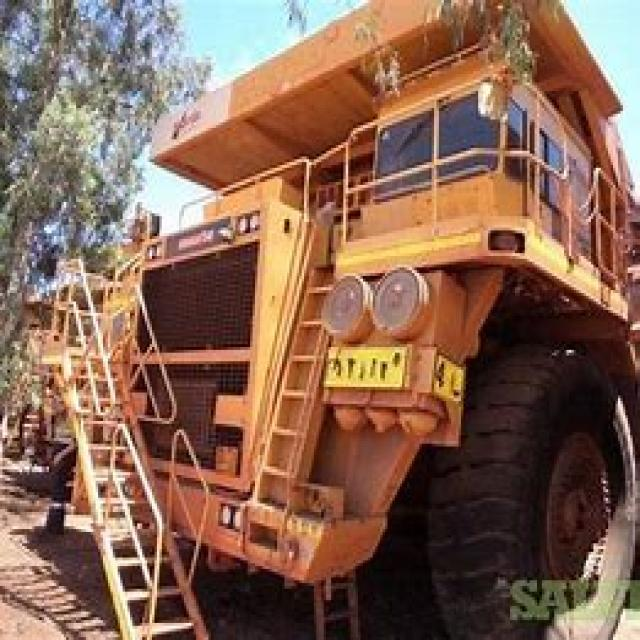dump_truck: (49, 6, 638, 626)
